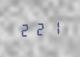one: (47, 19, 60, 35)
two: (18, 21, 31, 37), (33, 20, 46, 36)
